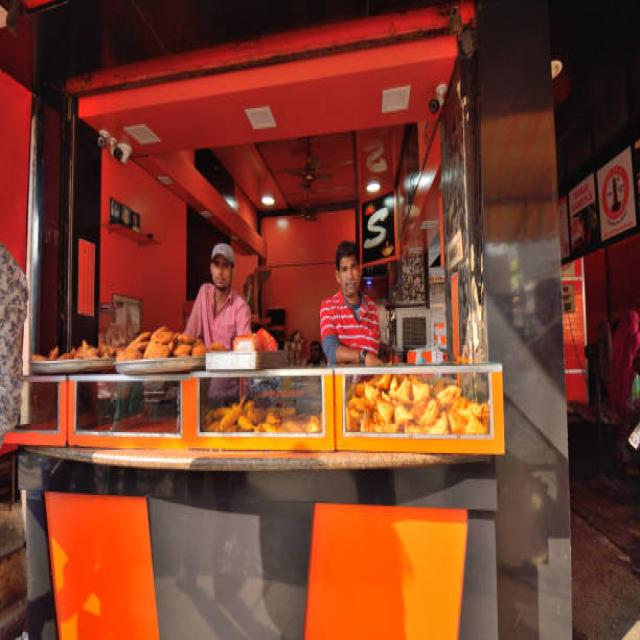Emperan: (0, 0, 567, 632)
